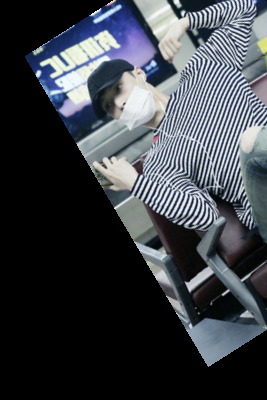mask_weared_incorrect: (77, 50, 174, 130)
